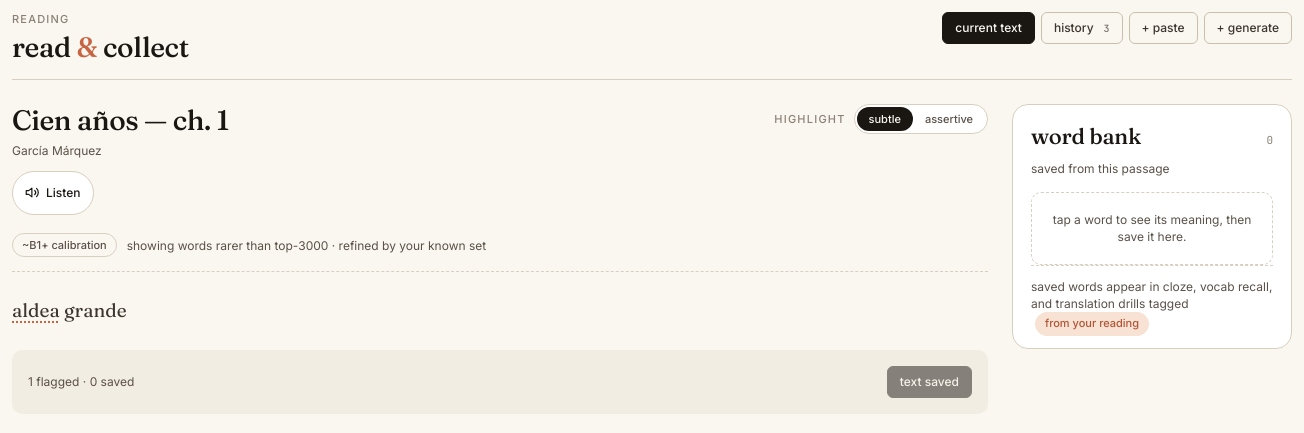
Scenario: ReadPage — top-bar view switching › clicking "history" with entries shows the HistoryView
The width and height of the screenshot is (1304, 433).
Step 1. Click the button "history 3" → click(1082, 28), box x1=1041 y1=12 x2=1123 y2=44
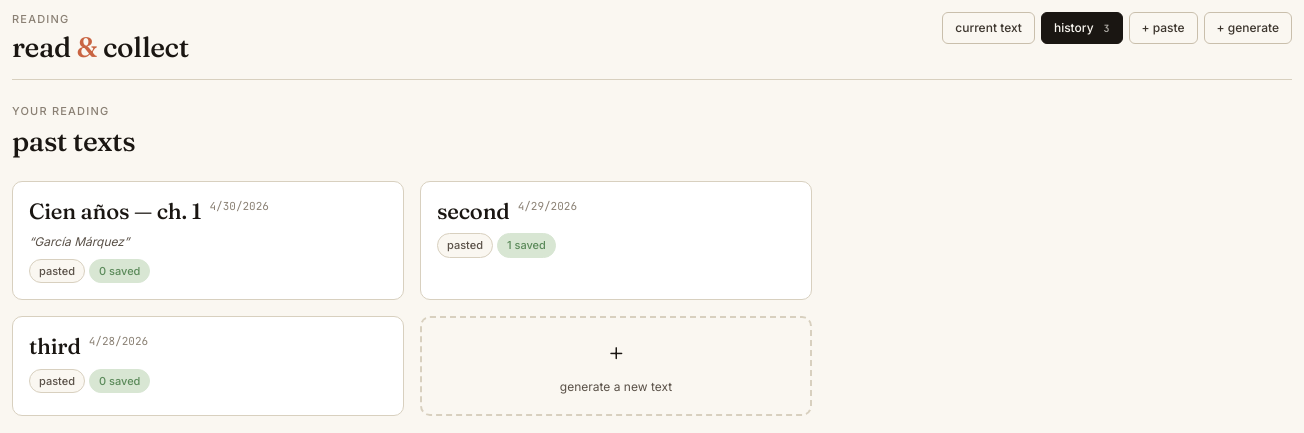
expect the heading "past texts" is shown: met, box x1=12 y1=124 x2=135 y2=158
expect the button "Cien años — ch. 1 4/30/2026 “García Márquez” pasted 0 saved" is shown: met, box x1=12 y1=181 x2=404 y2=300
